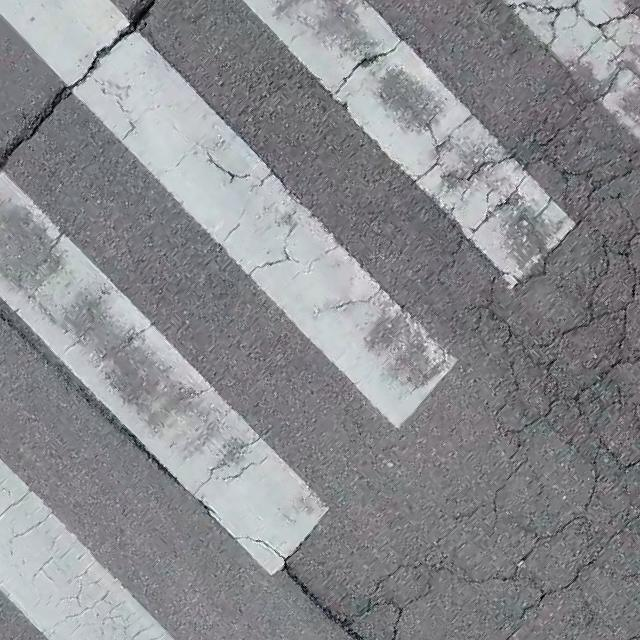GRIETA: (0, 299, 237, 542), (0, 0, 162, 177), (284, 561, 350, 634)
PIEL DE COCODRILO: (333, 0, 639, 639)
